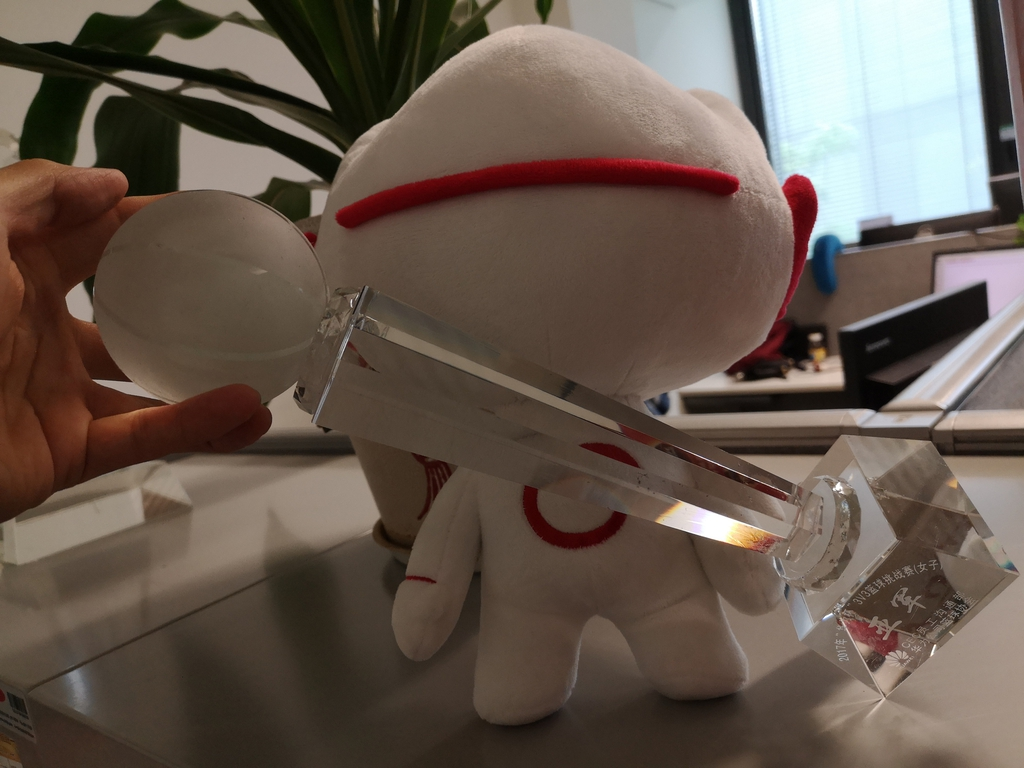yunbao: (305, 20, 831, 718)
